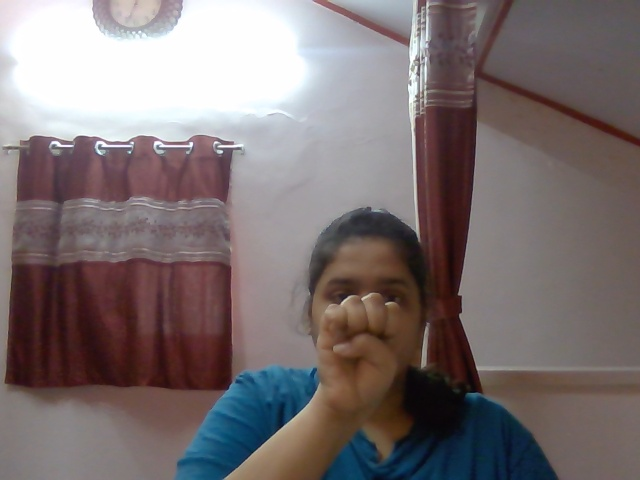e: (300, 289, 418, 415)
